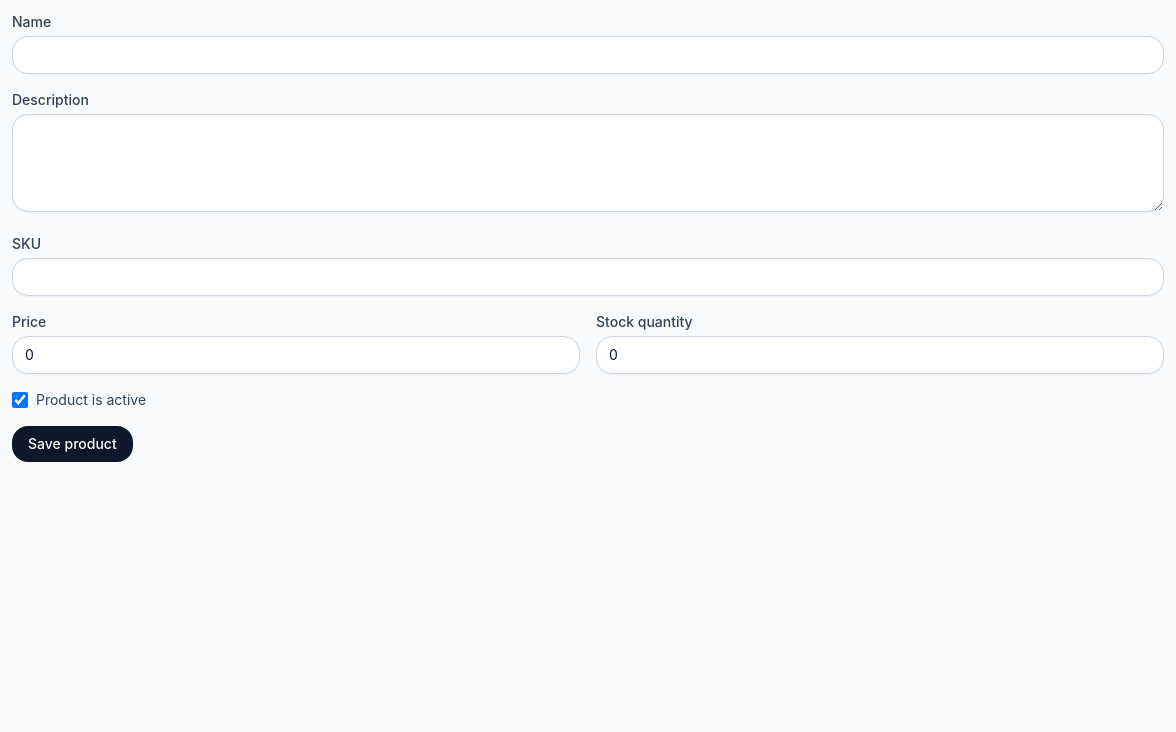
AdminProductForm validation › shows required field errors on empty submit
Click the button "Save product" at x=72, y=444, box [12, 426, 133, 462]
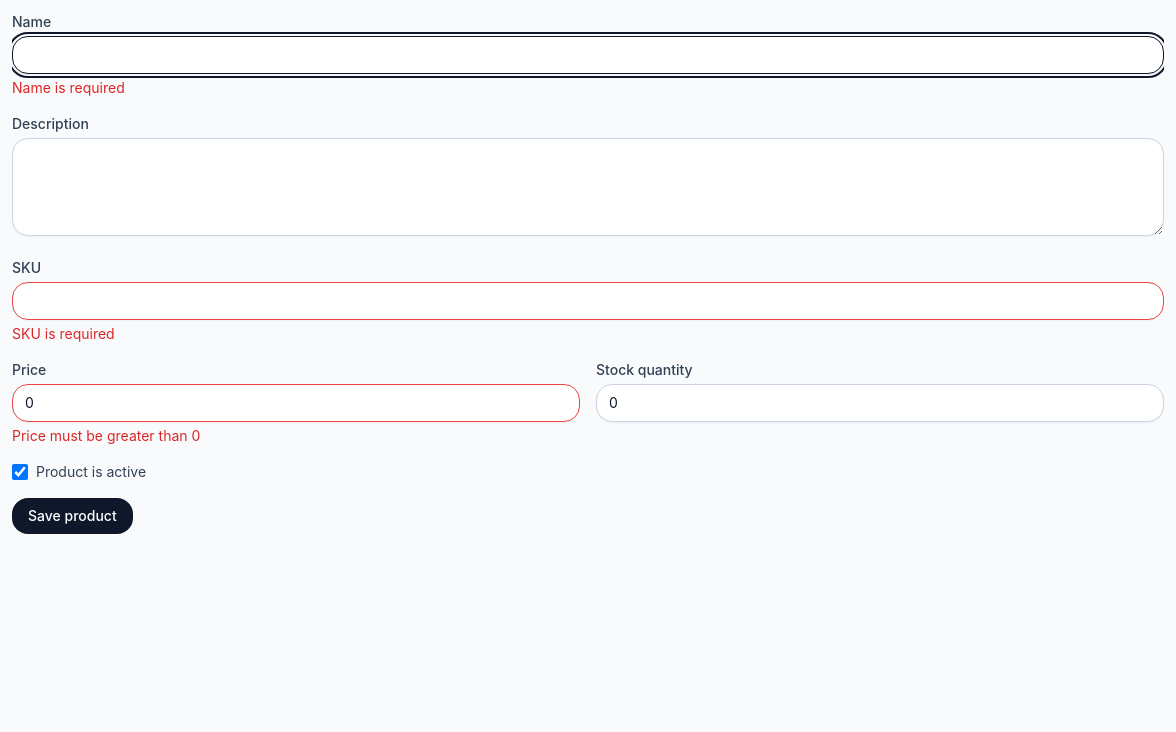
Expected: the text "Name is required" is shown, [12, 79, 125, 96]
Expected: the text "SKU is required" is shown, [12, 325, 115, 342]
